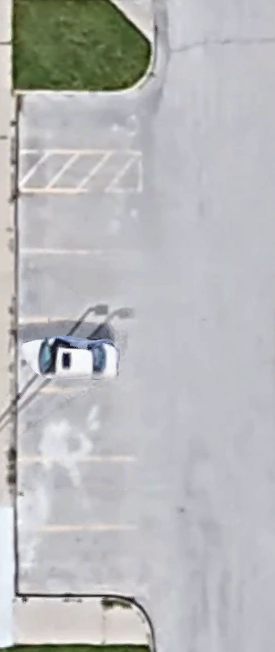Occupied: (19, 318, 140, 389)
Vacant: (18, 461, 140, 530), (16, 529, 139, 596), (19, 250, 141, 317), (19, 390, 139, 458), (18, 90, 142, 153), (18, 189, 141, 252)
